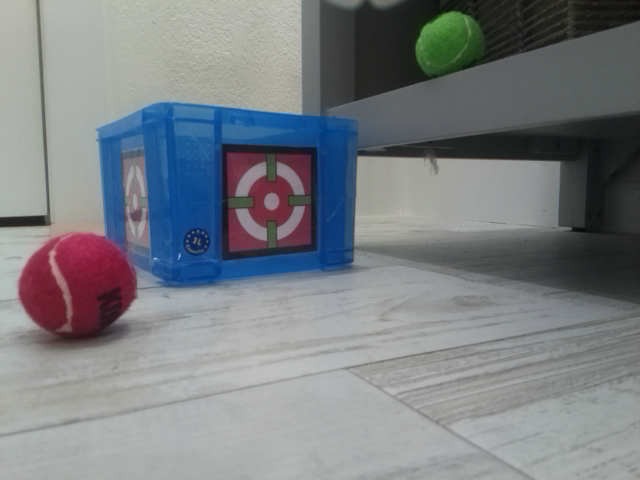drop-bin: (218, 143, 318, 261)
green-ball: (413, 10, 487, 81)
red-ball: (18, 229, 139, 341)
